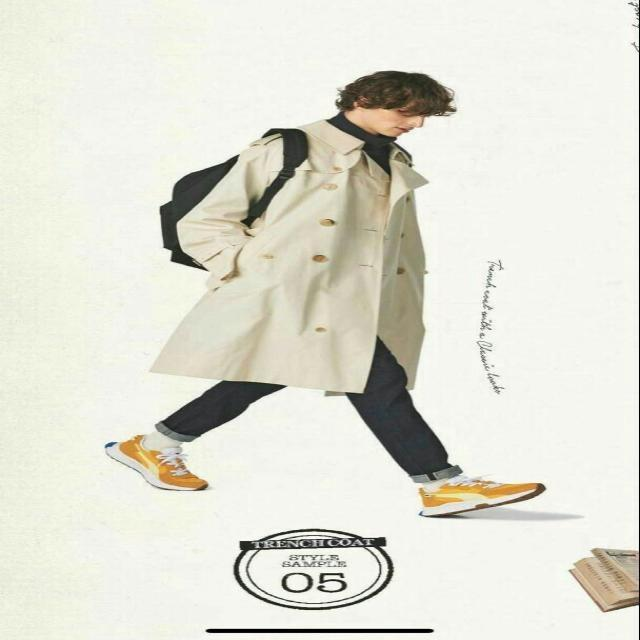person: (113, 64, 545, 526)
